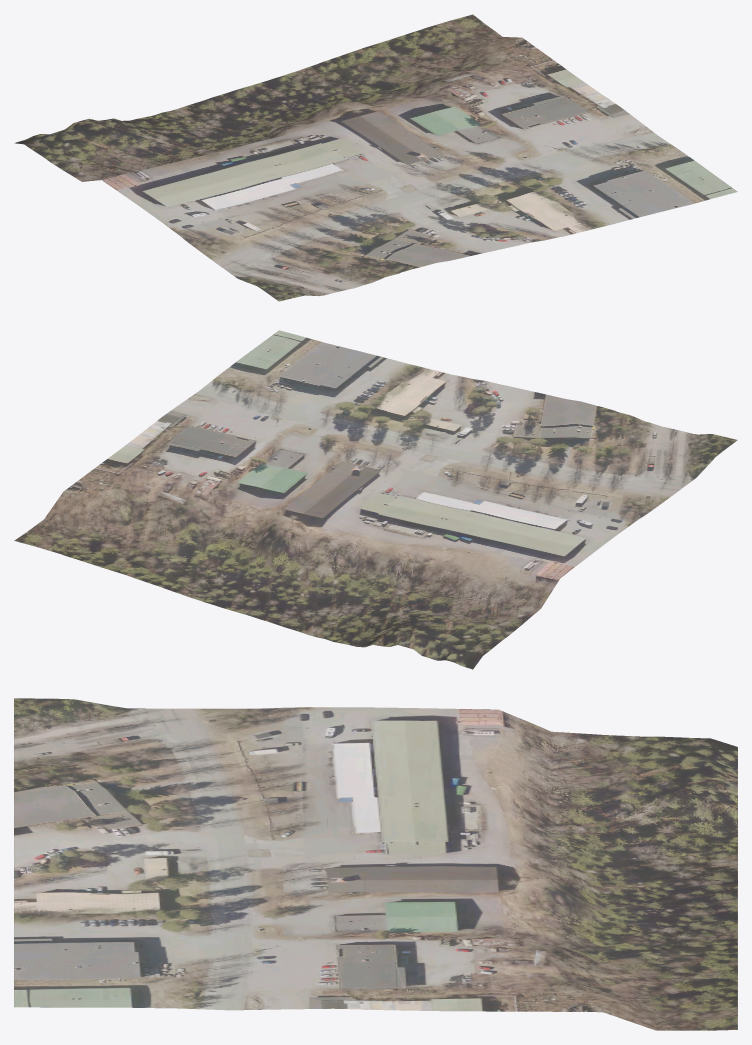
File: CM_Terrain_24492711_6816722.fbx
3 views of the same model, one above another, from view 1: azimuth 30°, elevation 25°; view 2: azimuth 150°, elevation 25°; view 3: azimuth 270°, elevation 25° (orthographic). The views are drawn at different scales.
Visible parts, largest first — view 1: CM_Terrain_24492711_6816722_LOD0; view 2: CM_Terrain_24492711_6816722_LOD0; view 3: CM_Terrain_24492711_6816722_LOD0.
Boxes of the visible parts, left/top/right/bottom form: CM_Terrain_24492711_6816722_LOD0: left=14, top=14, right=737, bottom=301; CM_Terrain_24492711_6816722_LOD0: left=14, top=330, right=737, bottom=669; CM_Terrain_24492711_6816722_LOD0: left=14, top=698, right=737, bottom=1030.
Size of what is drawn, in the model's own units: 205 by 18 by 205.
